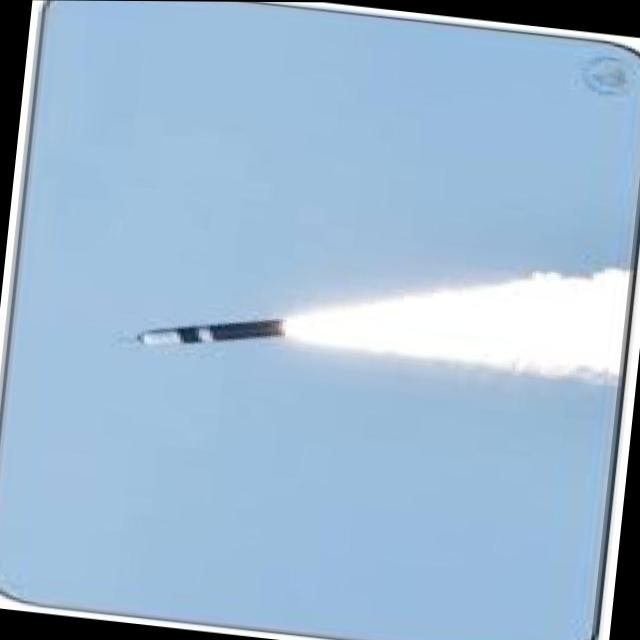missile: (116, 295, 300, 368)
